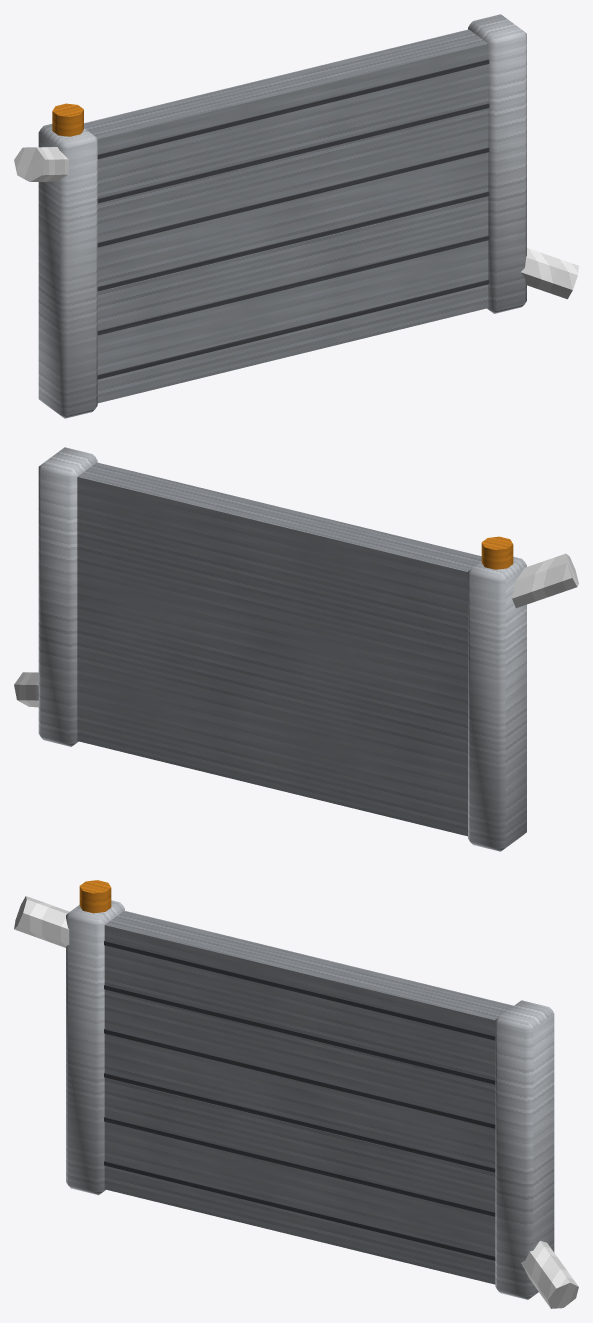
File: radiador_n3.glb
3 views of the same model, one above another, from view 1: azimuth 30°, elevation 25°; view 2: azimuth 150°, elevation 25°; view 3: azimuth 330°, elevation 25° (orthographic).
Parts seen in each view (by area): view 1: radiador_n3; view 2: radiador_n3; view 3: radiador_n3.
Boxes of the visible parts, x1,y1,x2,y2 form: radiador_n3: (14,14,578,418); radiador_n3: (14,447,578,851); radiador_n3: (14,880,578,1308).
Bounding box in the file's own units: 0.8881 × 0.45 × 0.1089.
Materials: 3 (3 with a texture image).
